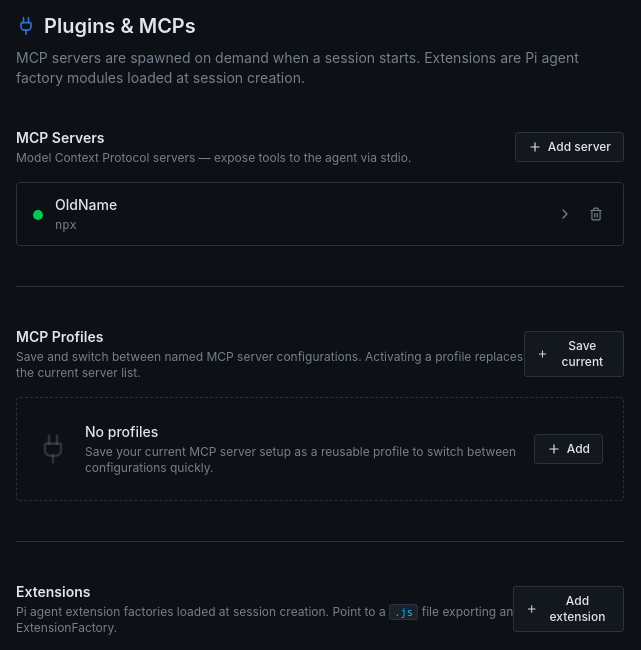
Test case: PluginsPanel › edits MCP server name
Click the text "OldName".
click(86, 204)  # box [55,196,117,213]
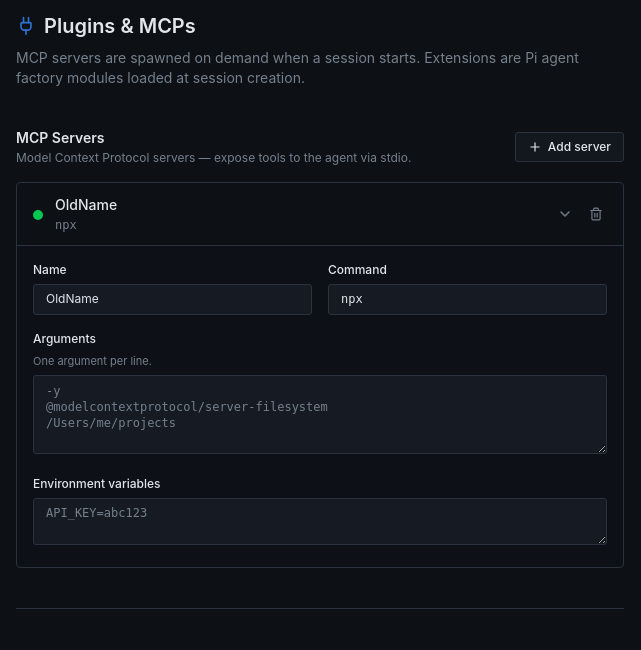
Expected: the 1st field showing "OldName" is shown
Replace the text in the 1st field showing "OldName" with "NewName" at (172, 299), box [33,284,312,315]
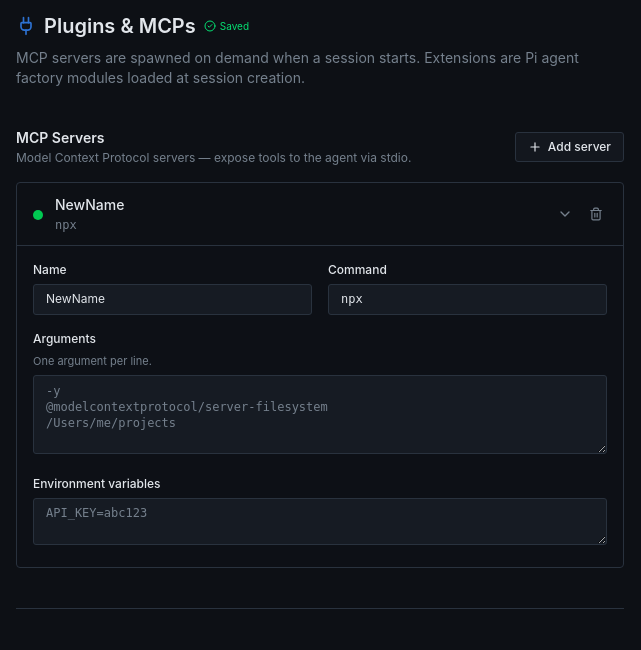
Expected: the text "OldName" reads "NewName", [55,196,124,213]
